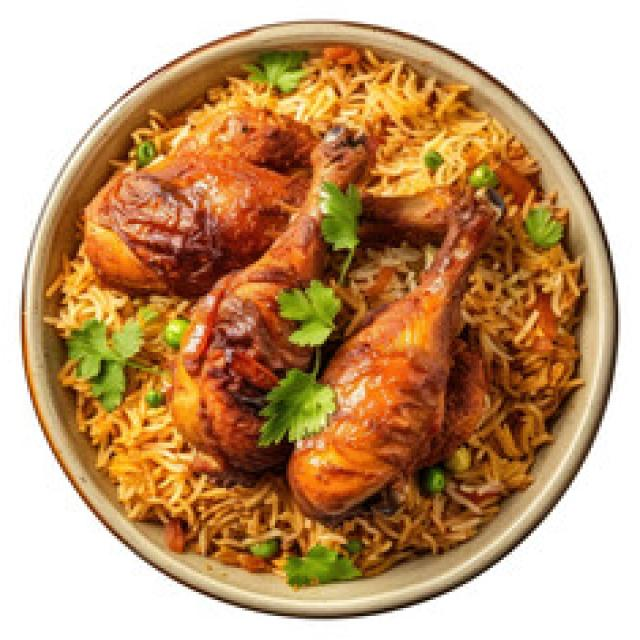BIRIYANI: (57, 44, 584, 585)
